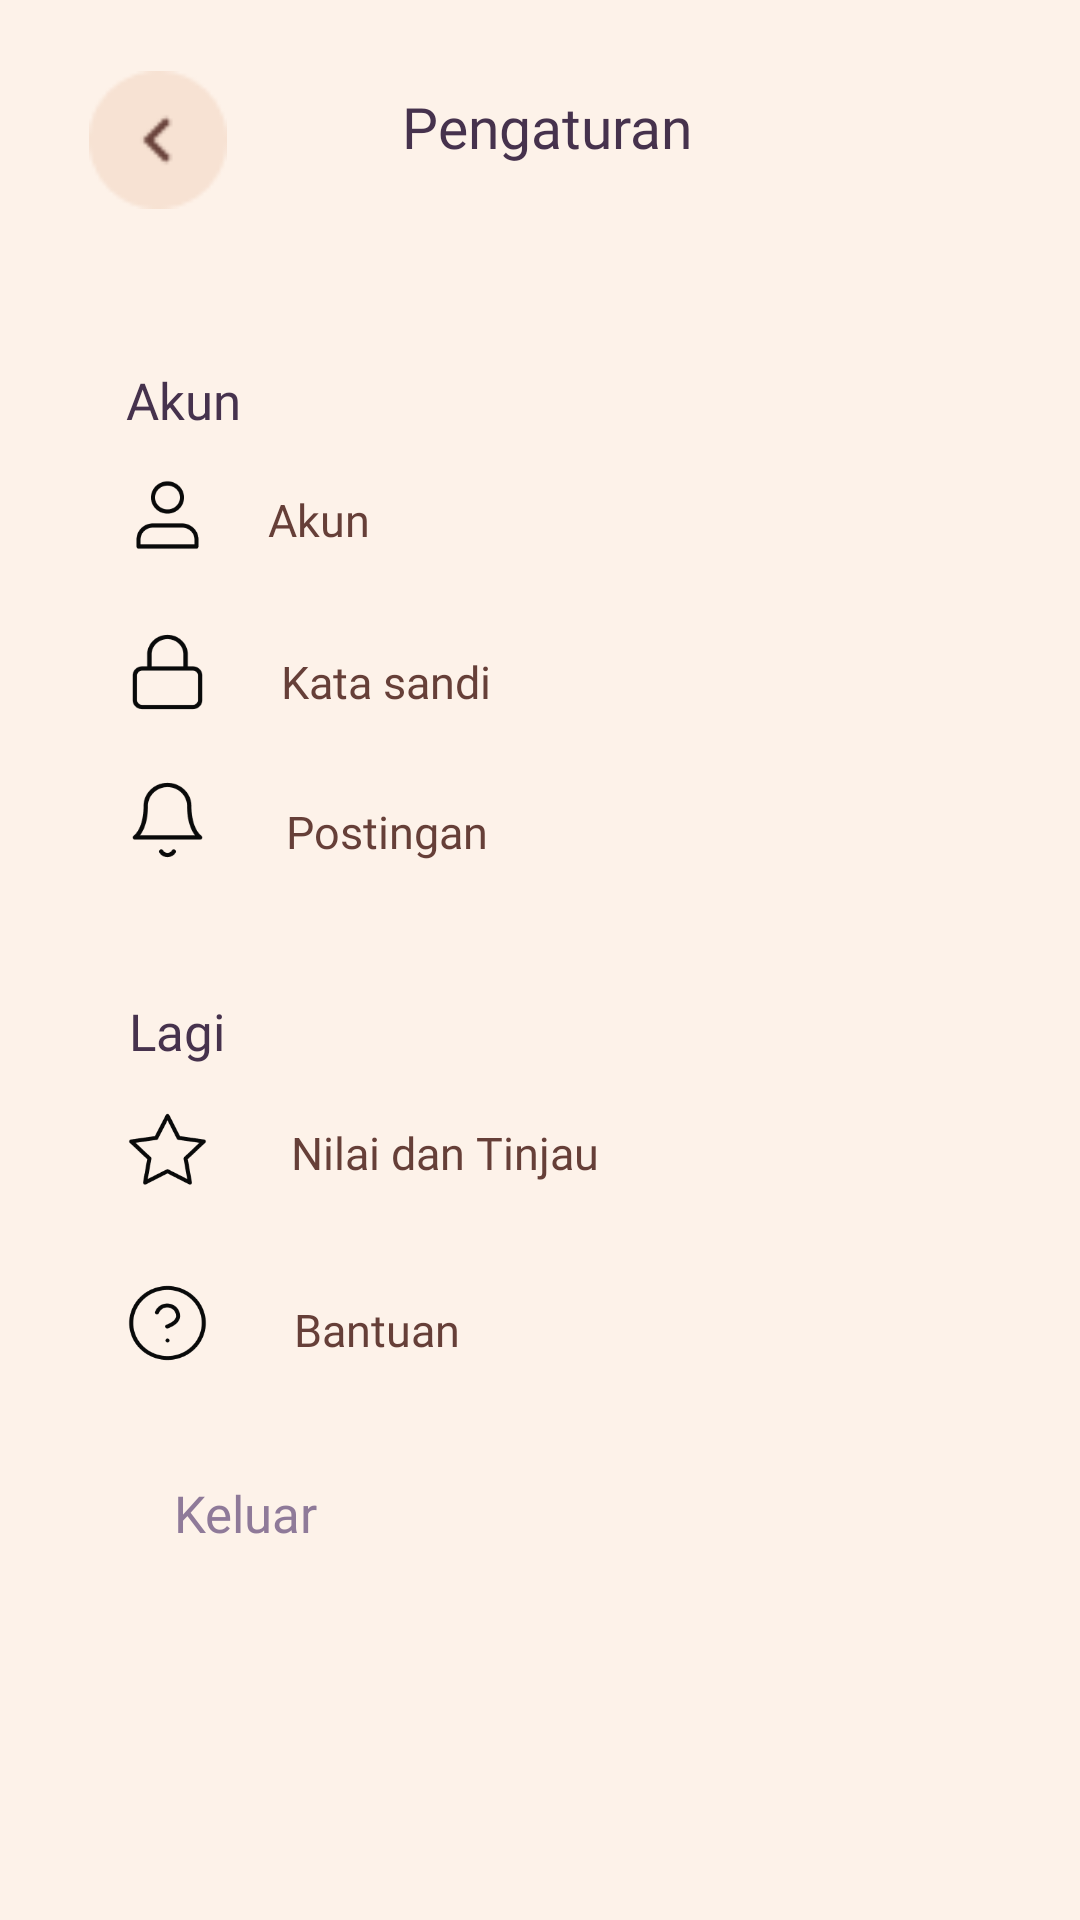

Where to tap for icons on this 1080px×1920px app screen, as (x=x, y=y):
back: (x=156, y=140)
